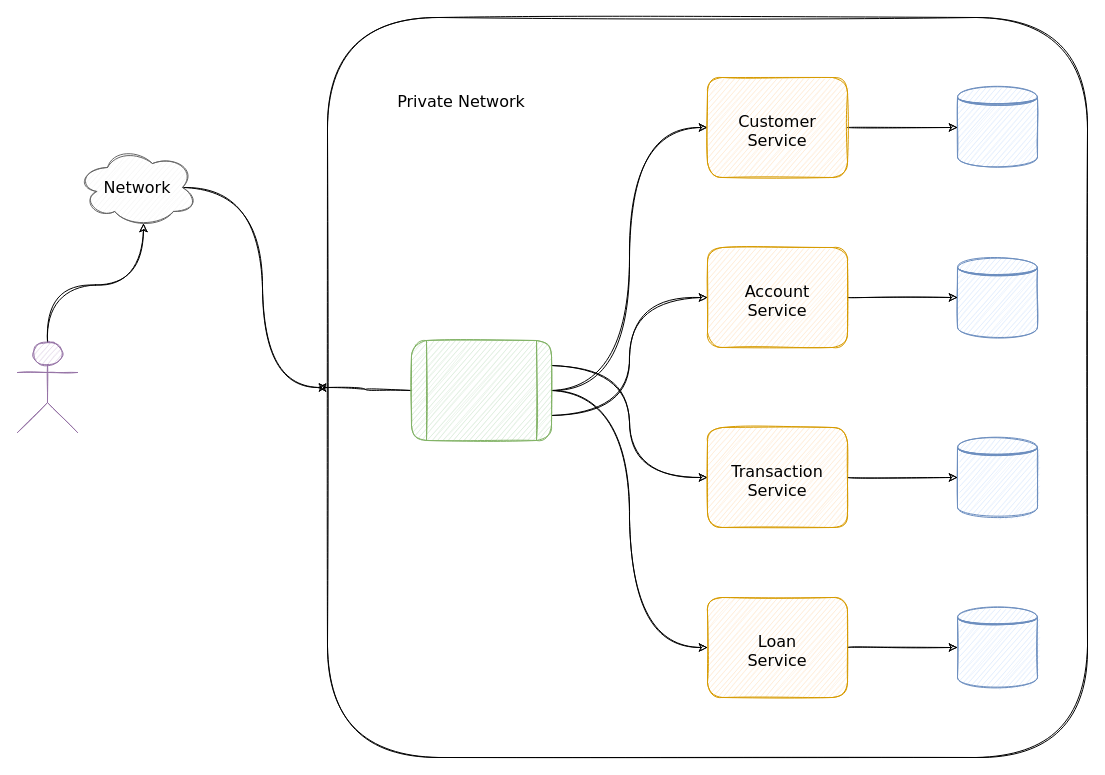
Image size: 1105x775. Some labels were removed from this diagram. The shapes that lost their labels are listed below. From the top down, each one's box as (x1, y1, x2, y2) in pixels, then its label:
(16, 342, 78, 432): User
(410, 340, 552, 440): Eureka Server
